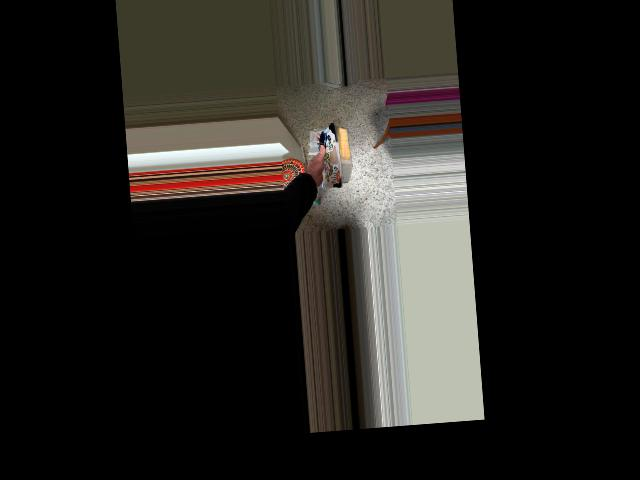cheese: (301, 118, 370, 197)
